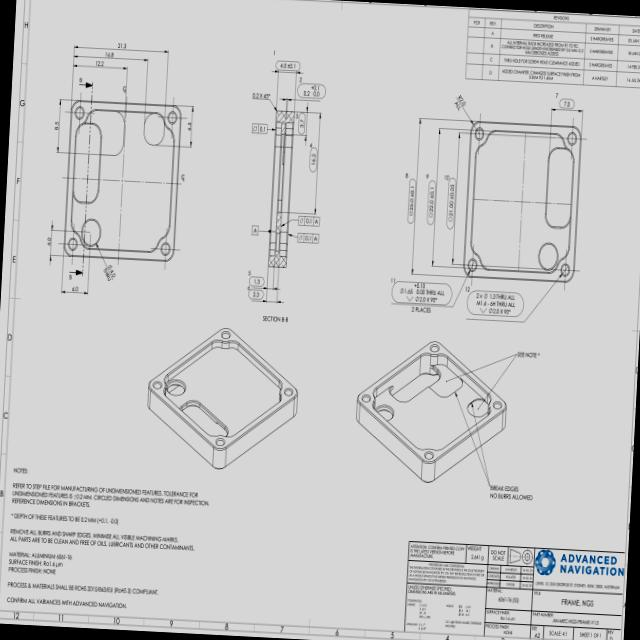dimension: (387, 275, 454, 318), (462, 284, 524, 318), (439, 170, 458, 228), (400, 170, 418, 224), (296, 74, 327, 100), (422, 171, 436, 227), (271, 48, 303, 72), (552, 90, 584, 112), (449, 90, 472, 117), (293, 110, 307, 138), (104, 43, 128, 59), (307, 140, 318, 174), (101, 262, 118, 284), (247, 269, 266, 287), (246, 286, 265, 301), (250, 90, 272, 102), (186, 120, 192, 133), (46, 235, 52, 248), (54, 120, 60, 132), (94, 60, 104, 66), (72, 286, 80, 292)
